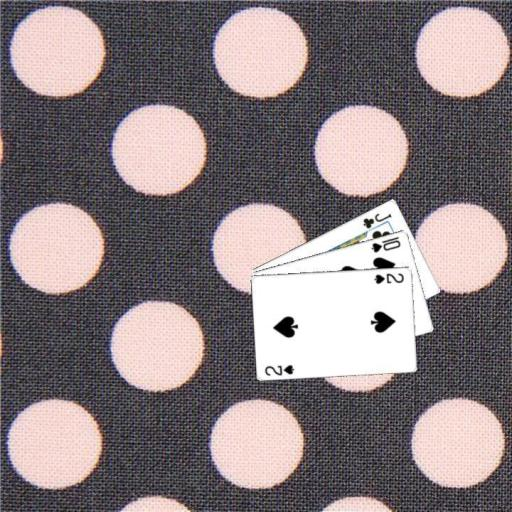10S: (368, 233, 402, 254)
2S: (372, 270, 406, 285), (262, 362, 296, 377)
JC: (360, 210, 393, 230)
